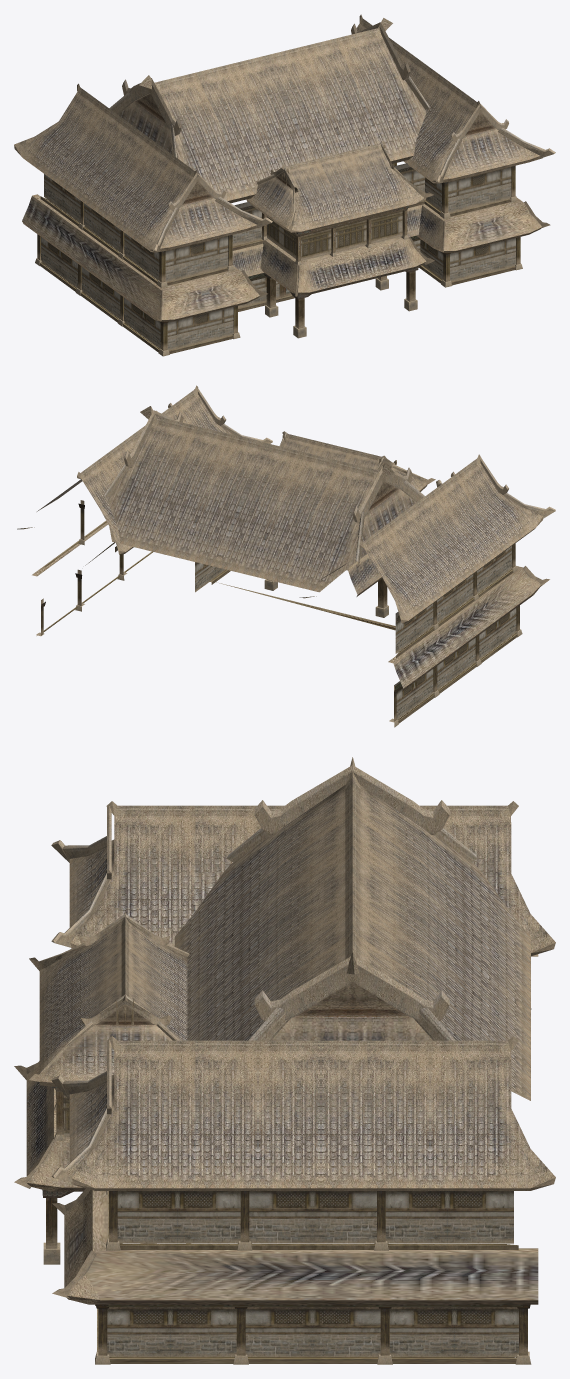
Rendered from desert-006-castle_lod_01.glb.
3 renders of one model, top to bottom at view 1: azimuth 30°, elevation 25°; view 2: azimuth 150°, elevation 25°; view 3: azimuth 270°, elevation 25°, orthographic. The views are drawn at different scales.
Parts seen in each view (by area): view 1: b1-006-castle-02, b1-006-castle-04, b1-006-castle-01, b1-006-castle-03, b1-006-castle-05; view 2: b1-006-castle-02, b1-006-castle-04, b1-006-castle-01, b1-006-castle-03, b1-006-castle-05; view 3: b1-006-castle-02, b1-006-castle-04, b1-006-castle-01, b1-006-castle-03, b1-006-castle-05.
Boxes of the visible parts, x1,y1,x2,y2 form: b1-006-castle-02: (14, 14, 542, 265); b1-006-castle-04: (35, 163, 550, 356); b1-006-castle-01: (22, 194, 541, 321); b1-006-castle-03: (109, 22, 555, 260); b1-006-castle-05: (264, 267, 418, 338); b1-006-castle-02: (17, 385, 542, 623); b1-006-castle-04: (36, 500, 549, 727); b1-006-castle-01: (32, 521, 541, 691); b1-006-castle-03: (104, 388, 555, 566); b1-006-castle-05: (264, 578, 388, 617); b1-006-castle-02: (29, 757, 555, 1190); b1-006-castle-04: (14, 1008, 531, 1364); b1-006-castle-01: (26, 954, 538, 1304); b1-006-castle-03: (51, 765, 477, 1182); b1-006-castle-05: (42, 1189, 156, 1264).
Bounding box in the file's own units: 30.4 × 15.24 × 20.79.
5 materials, 5 textured.
